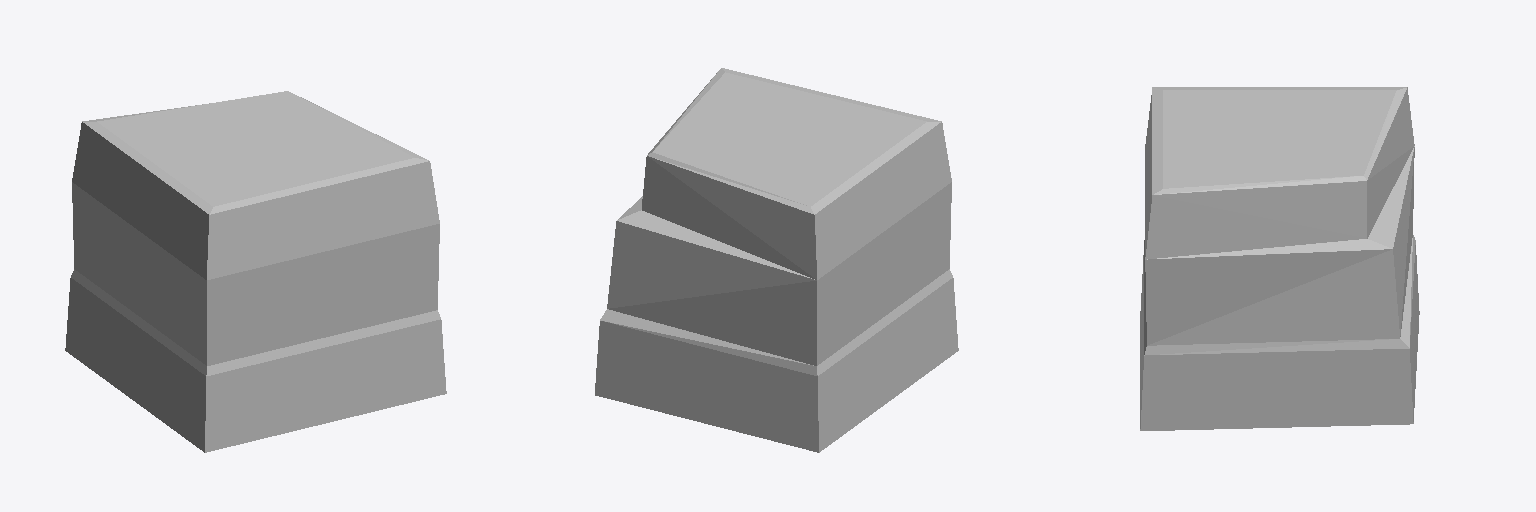
Rendered from cornerNew.obj.
3 views of the same model, side by side, from view 1: azimuth 30°, elevation 25°; view 2: azimuth 150°, elevation 25°; view 3: azimuth 270°, elevation 25° (orthographic).
Bounding box in the file's own units: 1.09 × 1.01 × 1.09.